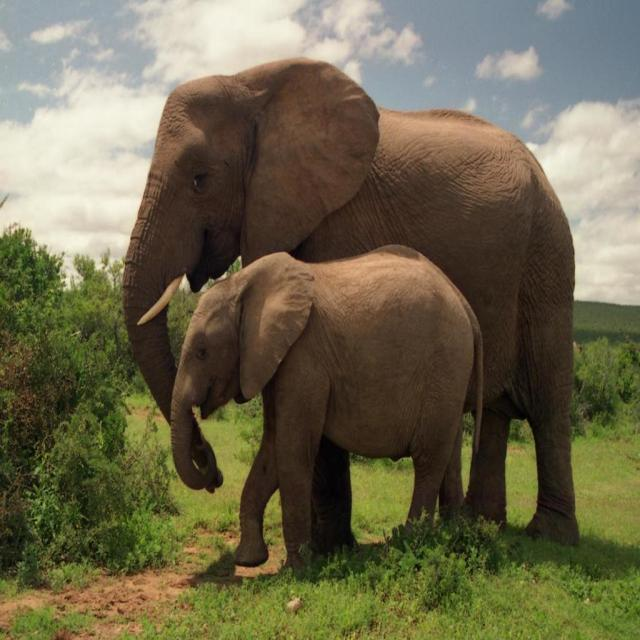elephant: (120, 58, 580, 562), (170, 242, 484, 572)
